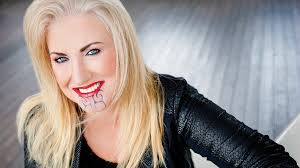s.white: (87, 58, 118, 85)
